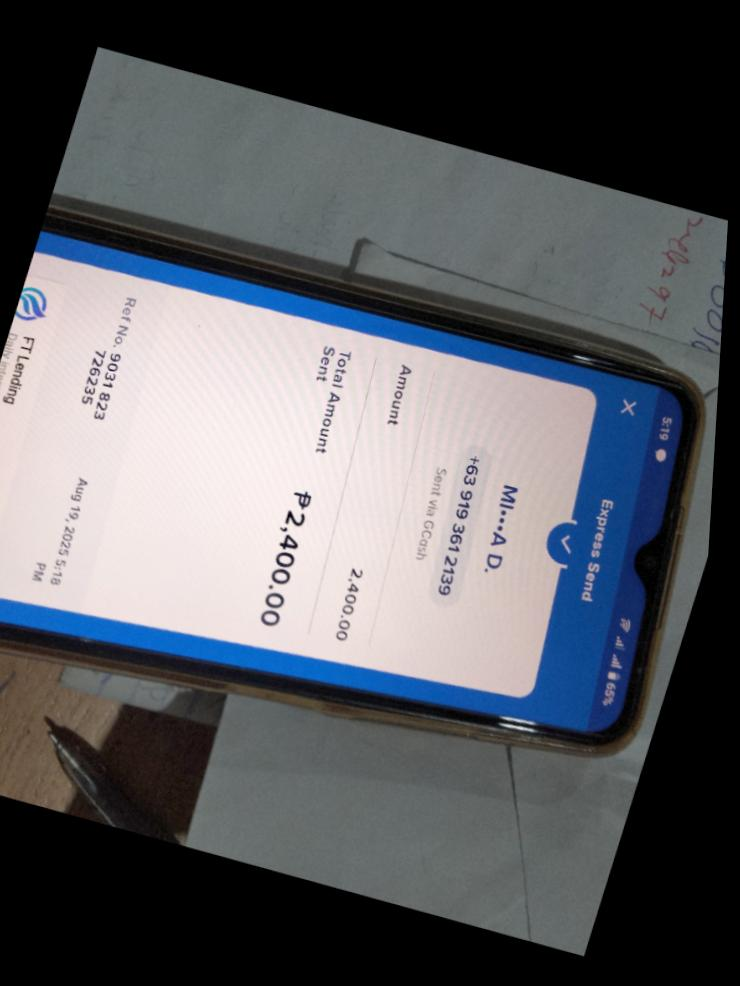Receipt: (0, 232, 656, 730)
